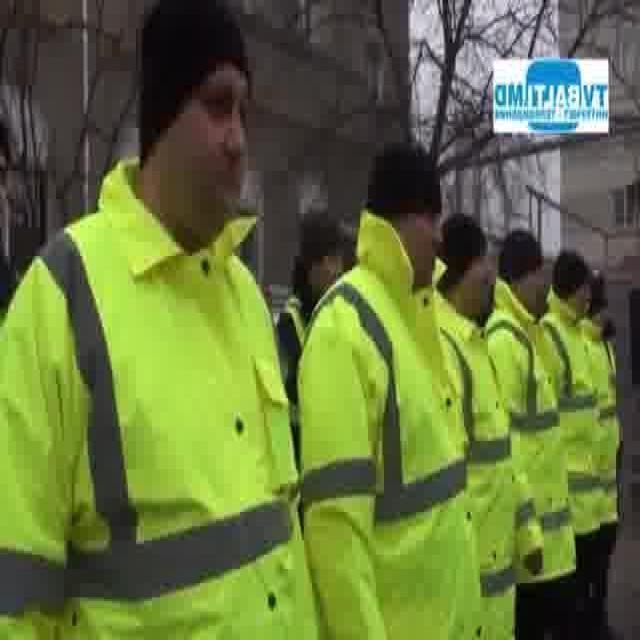safety_vest: (0, 154, 320, 640), (295, 201, 483, 640), (482, 274, 578, 585), (428, 290, 513, 640), (540, 282, 600, 534), (580, 316, 622, 530)
